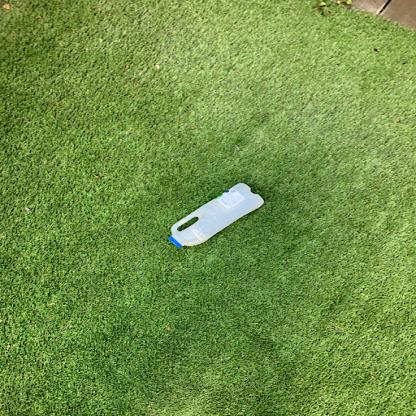trash: (164, 182, 268, 249)
